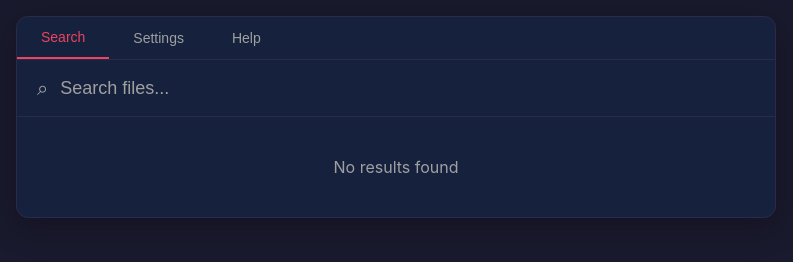
Test: App › displays search results
The width and height of the screenshot is (793, 262).
In the field with placeholder "Search files...": (408, 88) x1=60 y1=78 x2=755 y2=98, type "test"
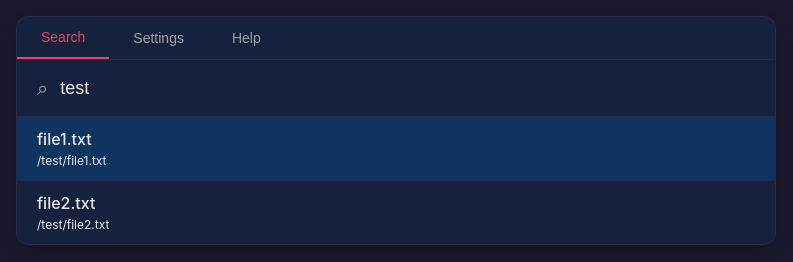
Result: the text "file1.txt" is shown at x1=37 y1=129 x2=92 y2=149
Result: the text "file2.txt" is shown at x1=37 y1=193 x2=95 y2=213
